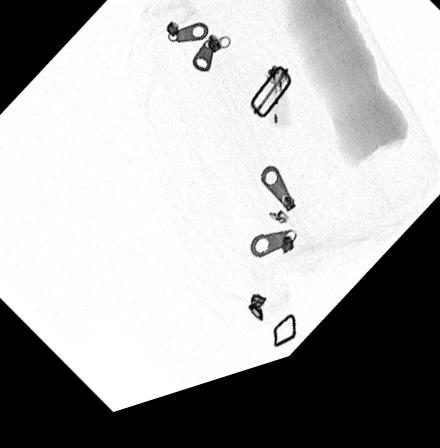Lighter: (264, 80, 290, 147)
